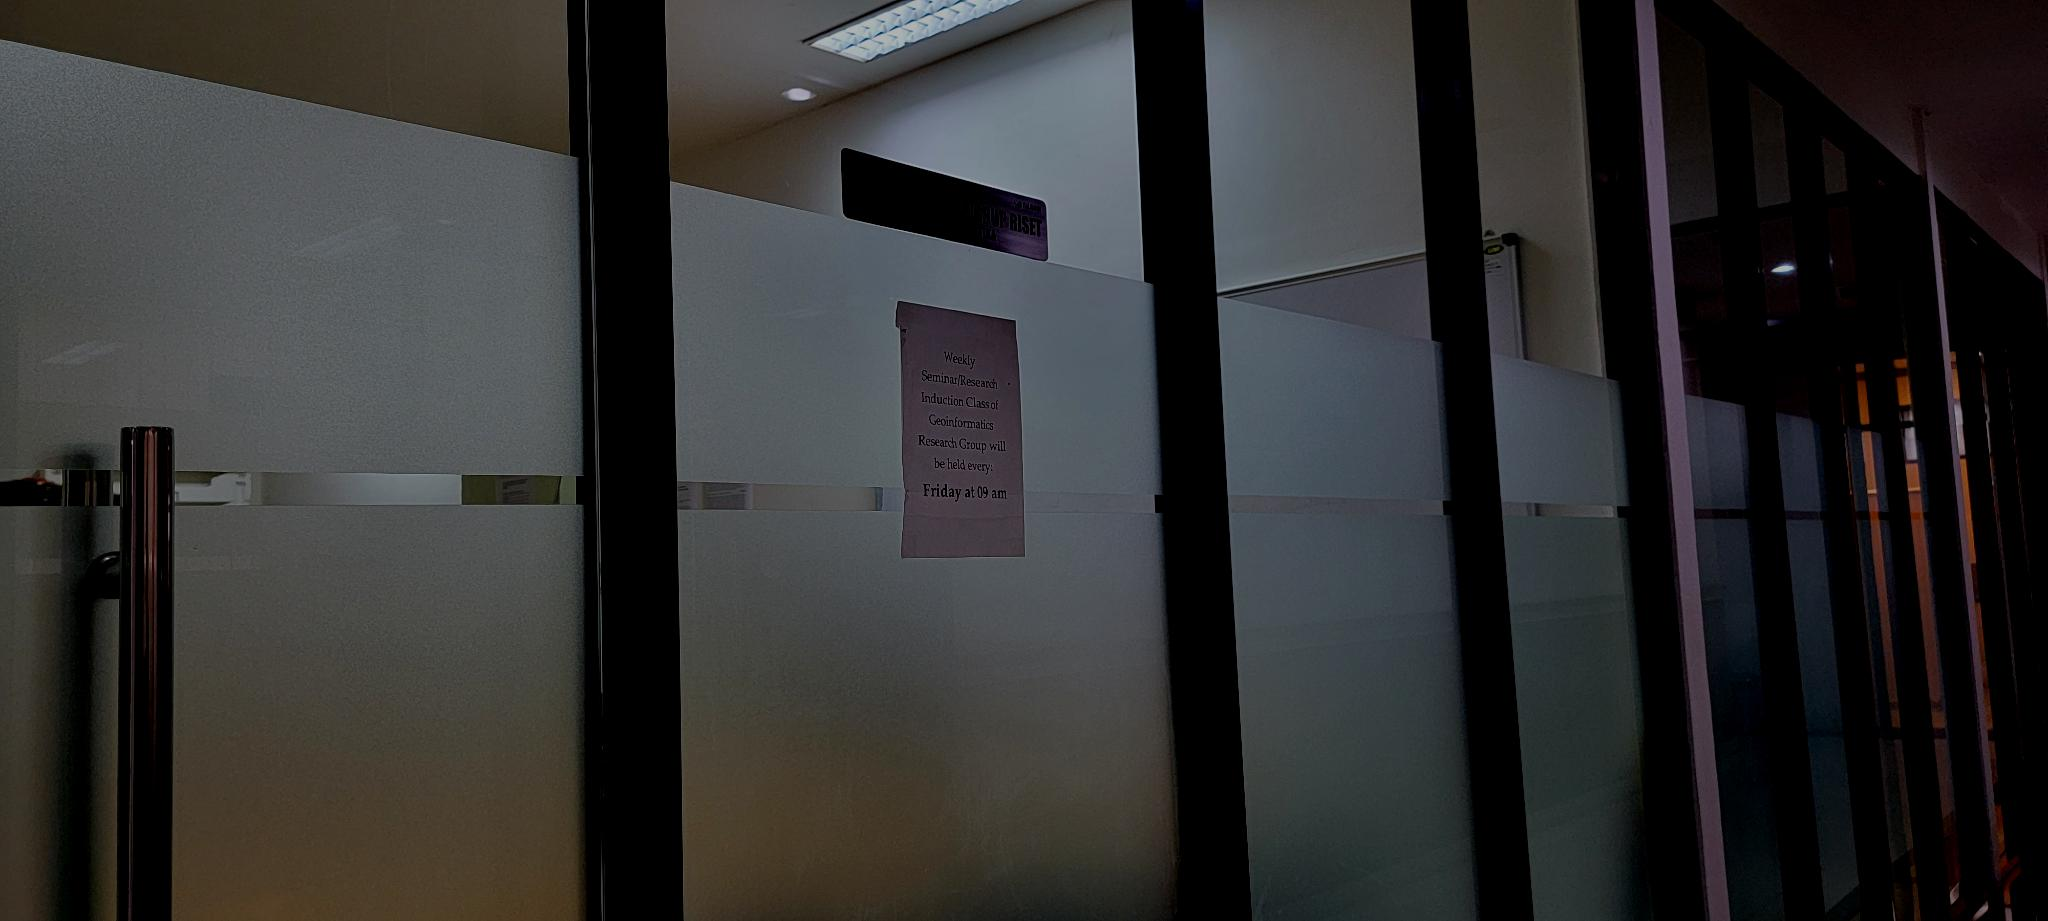plate: (840, 146, 1051, 264)
